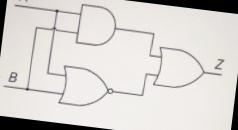and: (73, 2, 121, 50)
nor: (55, 63, 118, 113)
or: (150, 44, 210, 94)
